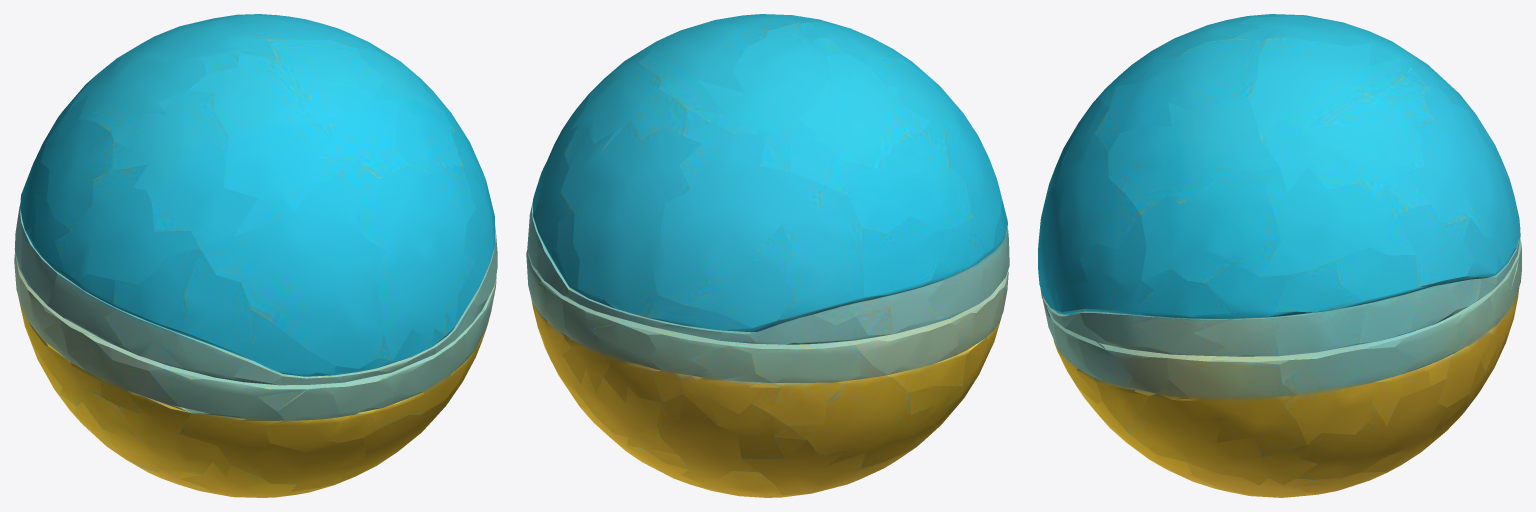
The picture shows the model from 3 angles, left to right: view 1: azimuth 30°, elevation 25°; view 2: azimuth 150°, elevation 25°; view 3: azimuth 270°, elevation 25°; orthographic projection.
Visible parts, largest first — view 1: mesh_node; view 2: mesh_node; view 3: mesh_node.
Part boxes in pixels (x1,y1,x2,y2): mesh_node: [14, 14, 497, 497]; mesh_node: [526, 14, 1009, 497]; mesh_node: [1038, 14, 1521, 497].
Size of the model in its own units: 1.9 by 1.9 by 1.9.
Materials: 1 (1 with a texture image).
